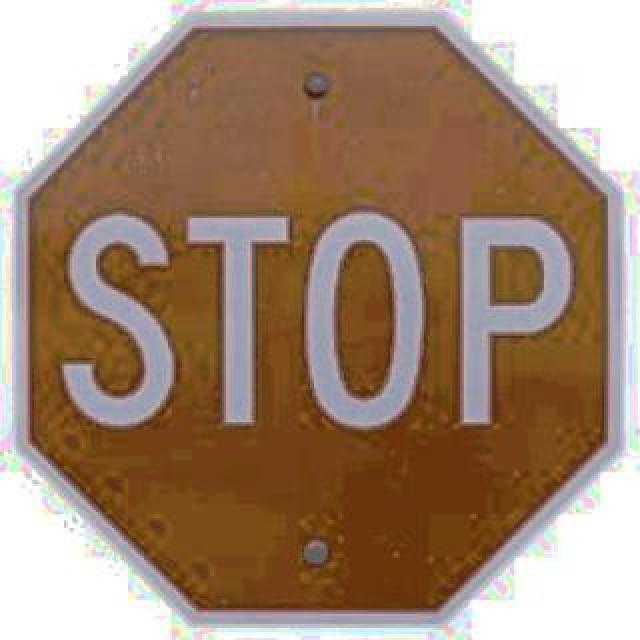stop: (16, 12, 628, 620)
